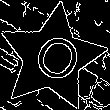O_SW: (21, 25, 83, 91)
